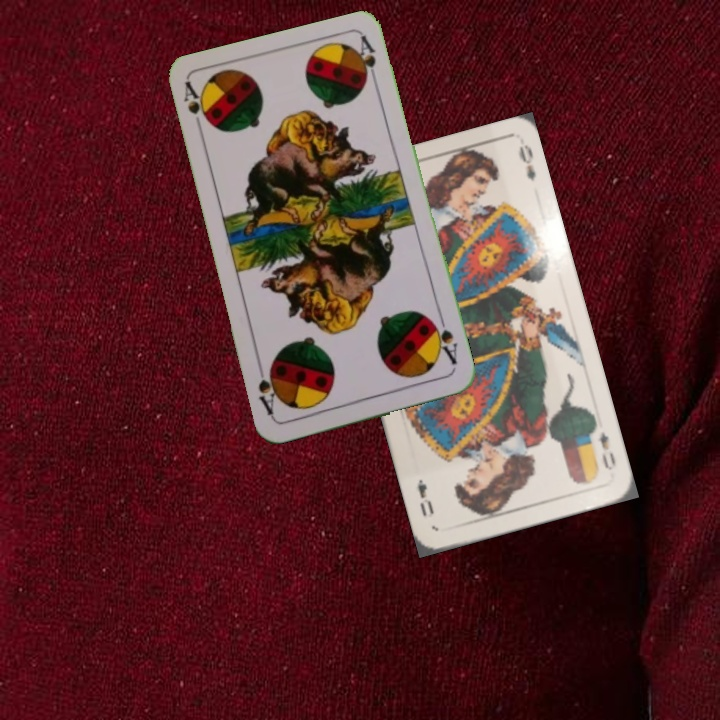EO: (585, 420, 619, 473)
SA: (179, 79, 213, 138), (427, 314, 460, 368)
